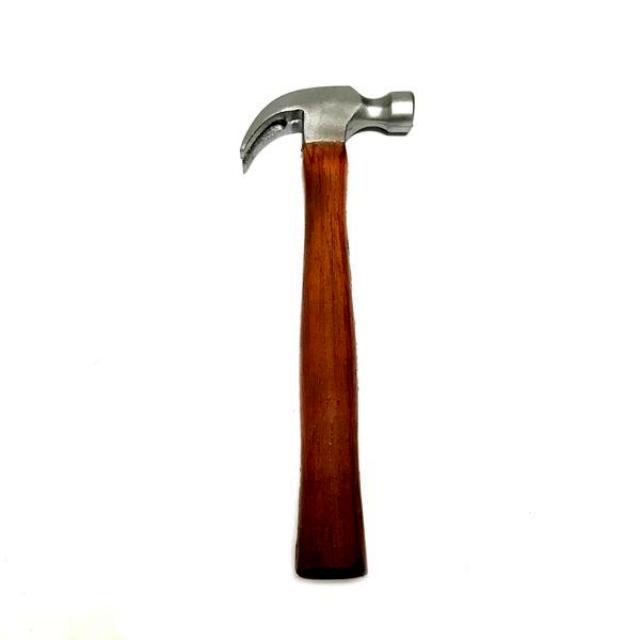hammer: (232, 78, 422, 590)
